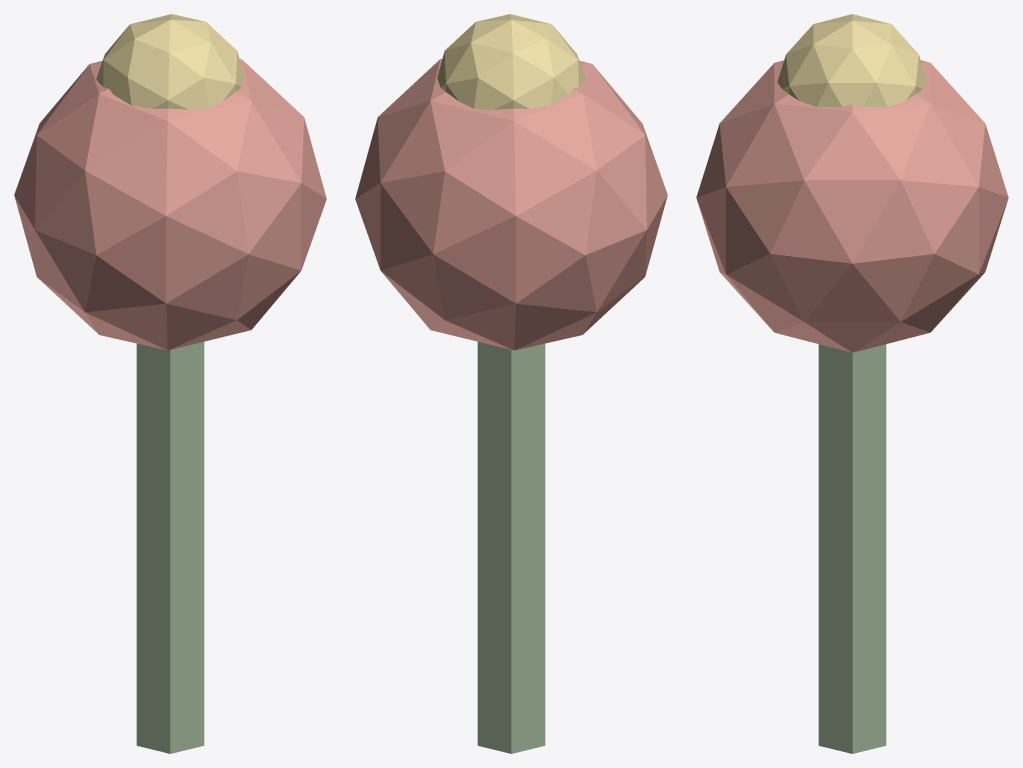
The model's file is flower_bed.glb.
The picture shows the model from 3 angles, left to right: view 1: azimuth 30°, elevation 25°; view 2: azimuth 150°, elevation 25°; view 3: azimuth 270°, elevation 25°; orthographic projection.
Visible parts, largest first — view 1: p001, p000, p002; view 2: p001, p000, p002; view 3: p001, p000, p002.
Part boxes in pixels (box(x1,y1,x2,y2)): p001: box(14, 59, 326, 350); p000: box(136, 342, 204, 753); p002: box(96, 14, 244, 109); p001: box(355, 59, 667, 350); p000: box(477, 342, 545, 753); p002: box(437, 14, 585, 109); p001: box(696, 60, 1008, 352); p000: box(818, 344, 886, 753); p002: box(777, 14, 927, 107).
Bounding box in the file's own units: 0.16 × 0.405 × 0.16.
